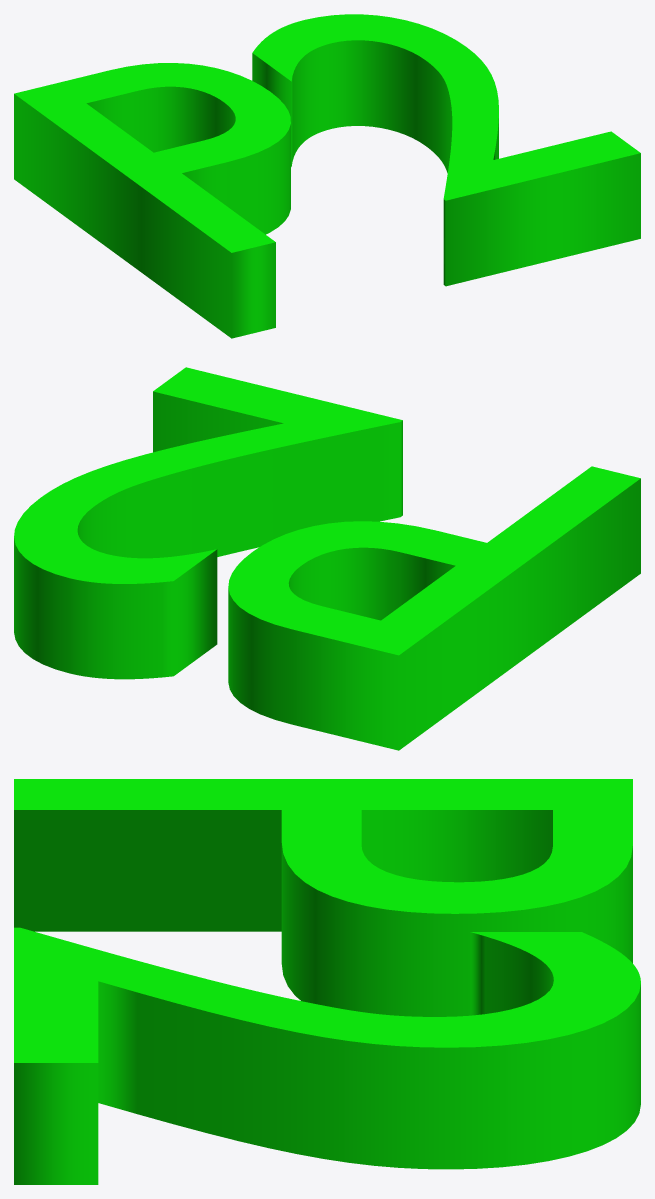
Rendered from player2.fbx.
The picture shows the model from 3 angles, top to bottom: view 1: azimuth 30°, elevation 25°; view 2: azimuth 150°, elevation 25°; view 3: azimuth 270°, elevation 25°; orthographic projection. The views are drawn at different scales.
Parts seen in each view (by area): view 1: Text; view 2: Text; view 3: Text.
Part boxes in pixels (bbox=[...]): Text: bbox=[14, 14, 640, 338]; Text: bbox=[14, 367, 640, 750]; Text: bbox=[14, 779, 640, 1184].
Bounding box in the file's own units: 1.5 × 0.3 × 1.4.
